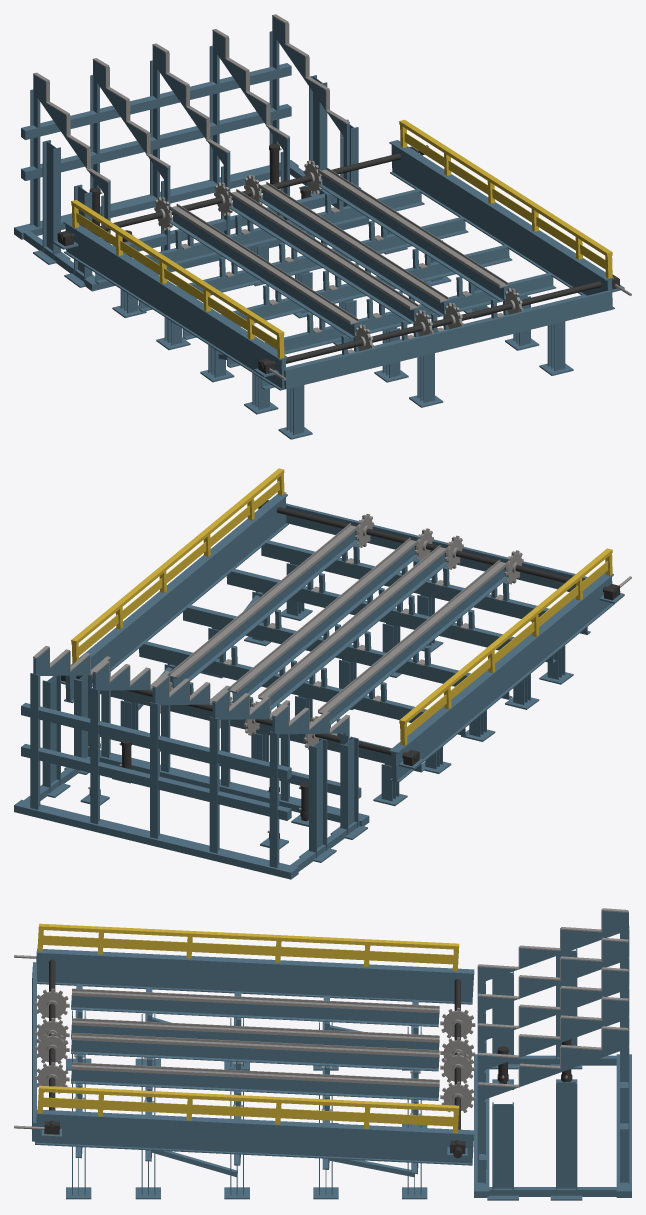
Rendered from log_deck_frame.glb.
3 views of the same model, one above another, from view 1: azimuth 30°, elevation 25°; view 2: azimuth 150°, elevation 25°; view 3: azimuth 270°, elevation 25° (orthographic).
Parts seen in each view (by area): view 1: LD_BedMesh, LD_Feeder, LD_BedLegs, LD_TailShaftMesh, LD_HeadShaftMesh; view 2: LD_BedMesh, LD_Feeder, LD_BedLegs, LD_TailShaftMesh, LD_HeadShaftMesh; view 3: LD_BedMesh, LD_Feeder, LD_BedLegs, LD_HeadShaftMesh, LD_TailShaftMesh.
Boxes of the visible parts, left/top/right/bottom form: LD_BedMesh: left=53, top=119, right=631, bottom=390; LD_Feeder: left=14, top=14, right=369, bottom=291; LD_BedLegs: left=112, top=212, right=573, bottom=439; LD_TailShaftMesh: left=259, top=281, right=601, bottom=369; LD_HeadShaftMesh: left=59, top=145, right=428, bottom=241; LD_BedMesh: left=61, top=468, right=631, bottom=782; LD_Feeder: left=14, top=646, right=369, bottom=879; LD_BedLegs: left=120, top=562, right=573, bottom=806; LD_TailShaftMesh: left=276, top=507, right=618, bottom=595; LD_HeadShaftMesh: left=76, top=675, right=418, bottom=761; LD_BedMesh: left=14, top=923, right=474, bottom=1174; LD_Feeder: left=474, top=908, right=631, bottom=1200; LD_BedLegs: left=66, top=1010, right=427, bottom=1199; LD_HeadShaftMesh: left=440, top=979, right=475, bottom=1158; LD_TailShaftMesh: left=34, top=959, right=69, bottom=1132.
Bounding box in the file's own units: 6.8 × 2.81 × 9.74.
